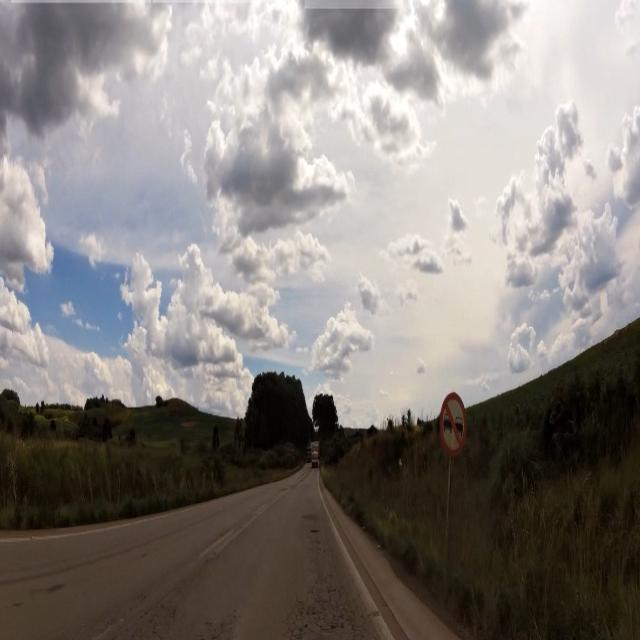R-7: (437, 394, 471, 455)
